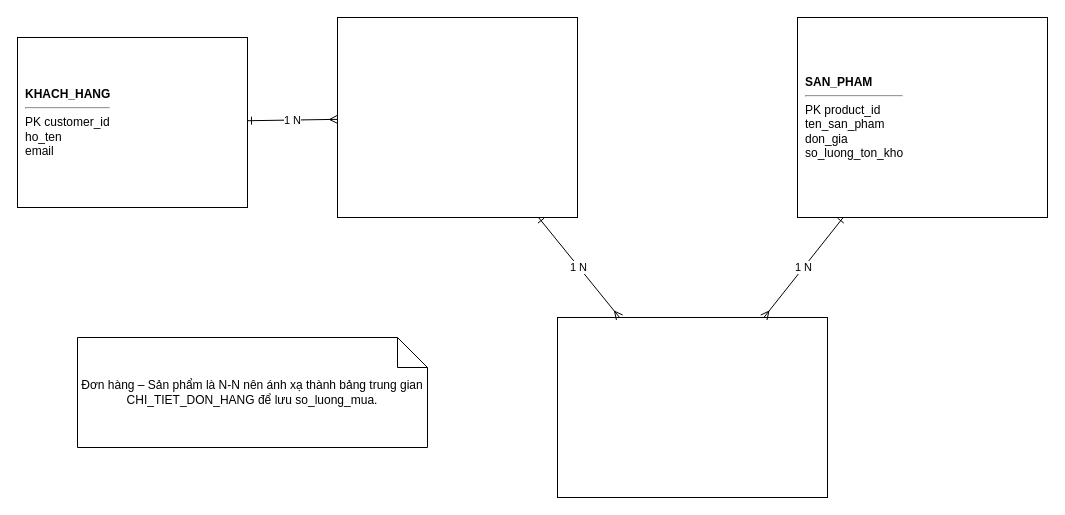
Some shapes in this 1065 by 515 pixel diagram are drawn without their labels. Here are the shapes that lost their labels. From the top down, the centre of each, then its label:
At (x=457, y=117): "DON_HANG PK order_id FK customer_id ngay_dat ma_giam_gia".
At (x=692, y=407): "CHI_TIET_DON_HANG PK, FK order_id PK, FK product_id so_luong_mua".
